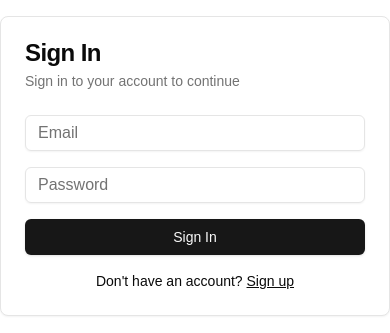
it: LoginPage › shows loading state on submit button
The image size is (390, 333).
Step 1. Type "a@b.com" into the field with placeholder "Email" → (195, 133), box [25, 115, 365, 151]
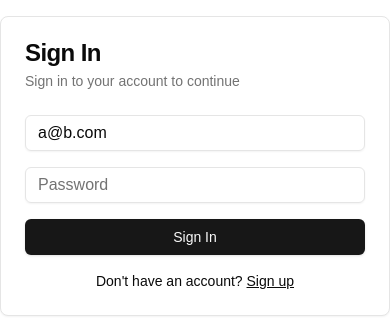
Step 2. Type "x" into the password field with placeholder "Password" → (195, 185), box [25, 167, 365, 203]
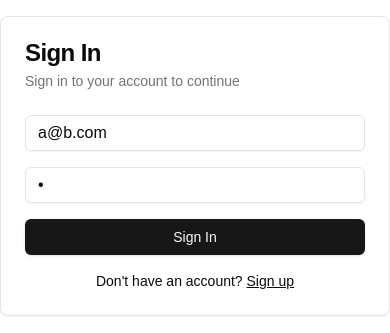
Step 3. Submit the form with placeholder "Email", box [25, 115, 365, 255]
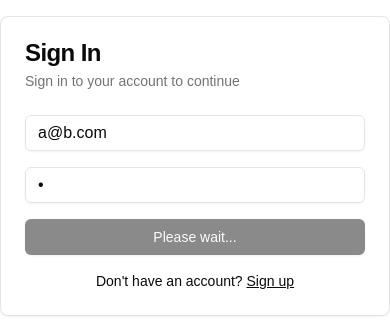
Result: the button "Please wait..." is shown at [25, 219, 365, 255]
